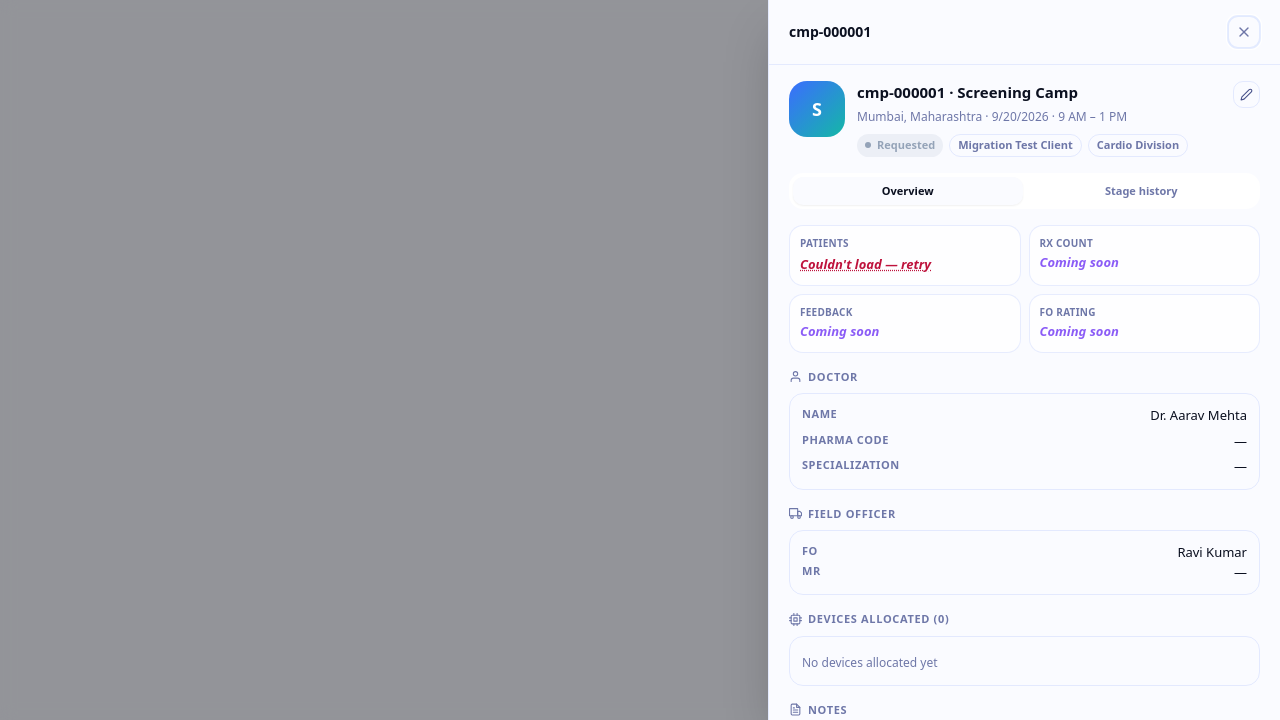
Test: CampDrawer › switches to the Stage history tab and shows the camp's history
Click the button "Stage history": (1141, 191) x1=1026 y1=176 x2=1256 y2=205
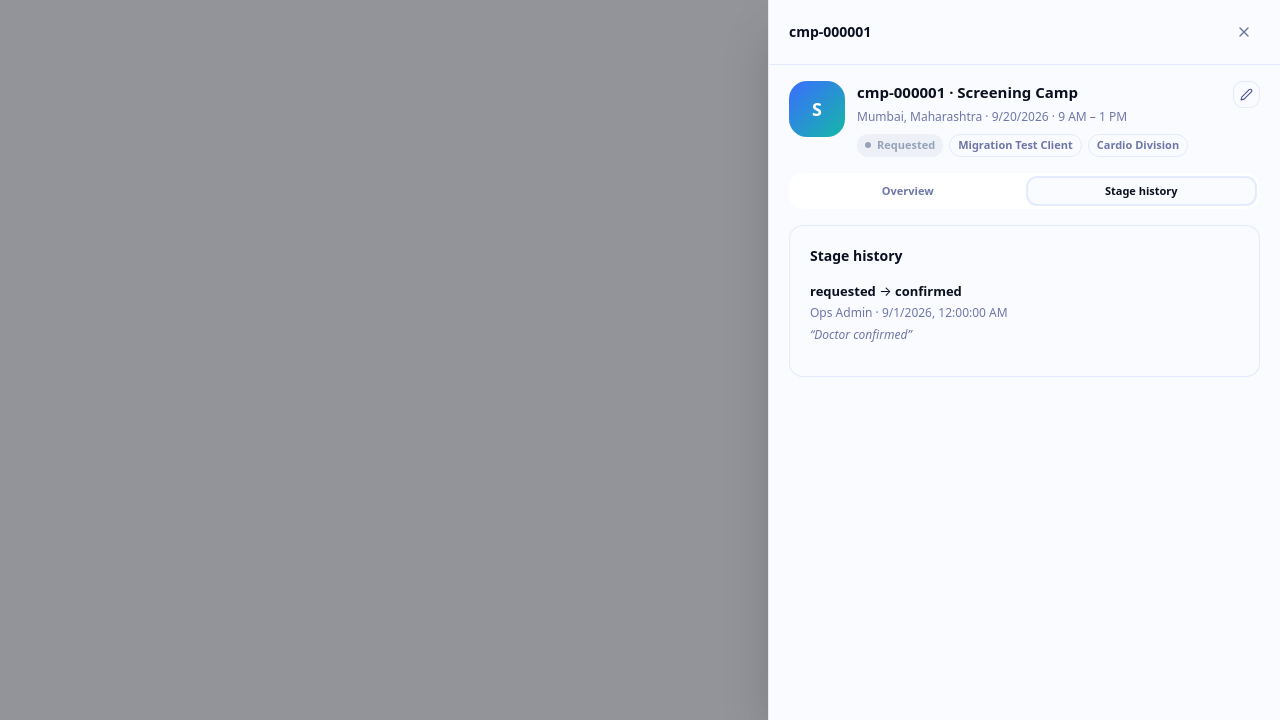
Result: the text "“Doctor confirmed”" is shown at x1=810 y1=326 x2=912 y2=342
